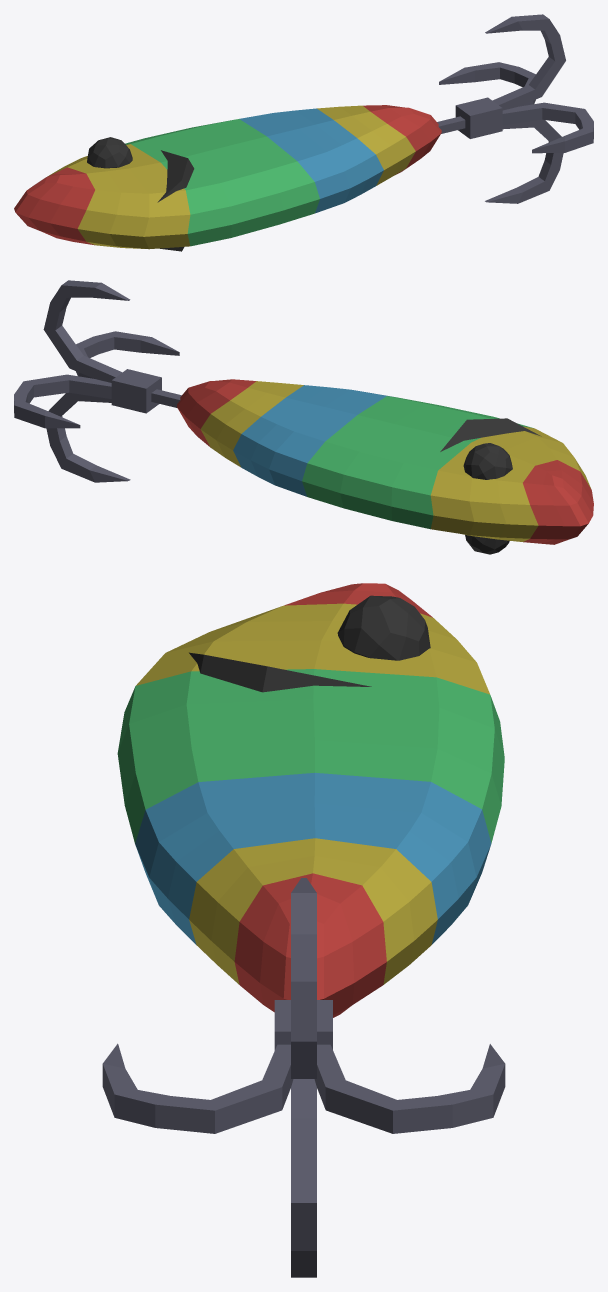
The model's file is Lure_4.glb.
The picture shows the model from 3 angles, top to bottom: view 1: azimuth 30°, elevation 25°; view 2: azimuth 150°, elevation 25°; view 3: azimuth 270°, elevation 25°; orthographic projection. The views are drawn at different scales.
Parts seen in each view (by area): view 1: Lure_4; view 2: Lure_4; view 3: Lure_4.
Part boxes in pixels (x1=…): Lure_4: x1=14, y1=14, x2=593, y2=251; Lure_4: x1=14, y1=280, x2=593, y2=554; Lure_4: x1=102, y1=583, x2=505, y2=1277.
Bounding box in the file's own units: 1.87 × 0.6167 × 0.6167.
